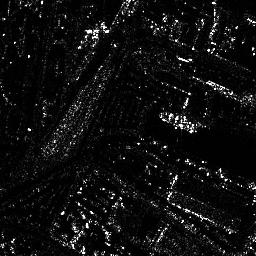ship: (158, 111, 198, 134)
